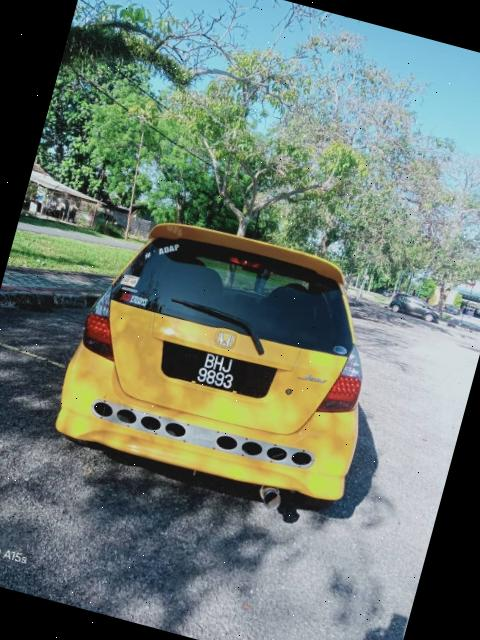License_Plate: (172, 340, 258, 401)
car: (26, 191, 412, 519)
